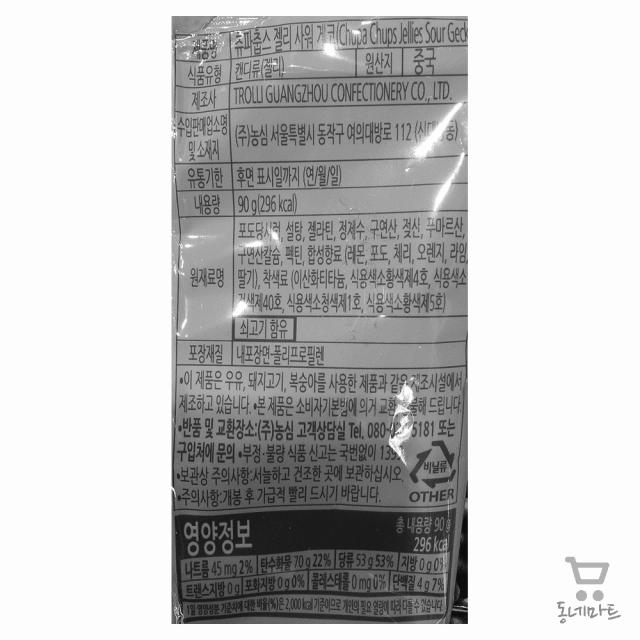Nutrition Label: (172, 508, 467, 635)
